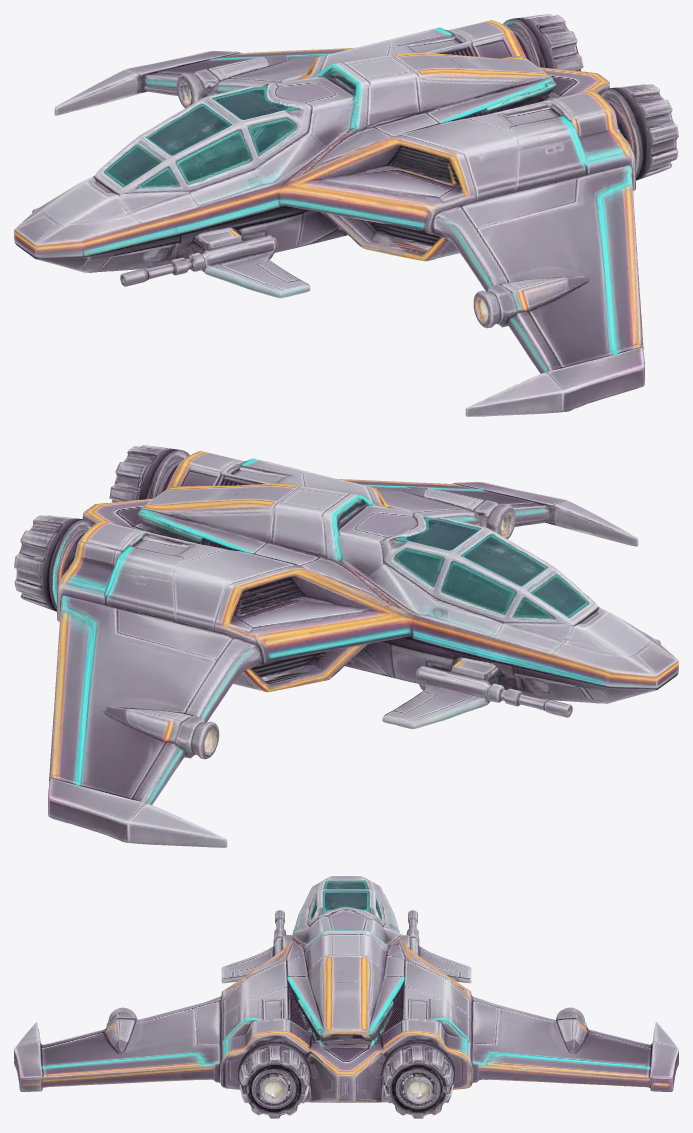
File: ship_b.glb
3 renders of one model, top to bottom at view 1: azimuth 30°, elevation 25°; view 2: azimuth 150°, elevation 25°; view 3: azimuth 270°, elevation 25°, orthographic. The views are drawn at different scales.
Visible parts, largest first — view 1: Mesh_0; view 2: Mesh_0; view 3: Mesh_0.
Part boxes in pixels (x1,y1,x2,y2): Mesh_0: (14,14,678,416); Mesh_0: (14,445,678,847); Mesh_0: (14,876,678,1118).
Bounding box in the file's own units: 1.48 × 0.4235 × 1.91.
Materials: 1 (1 with a texture image).
